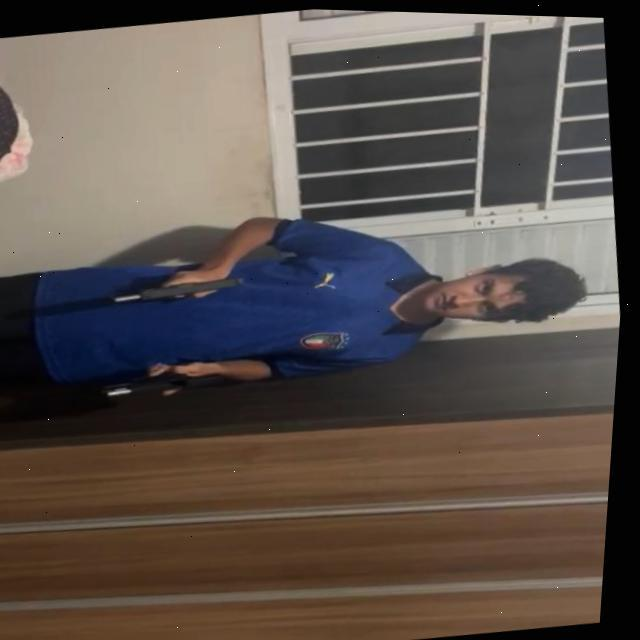gun: (112, 269, 252, 306), (104, 364, 224, 401)
